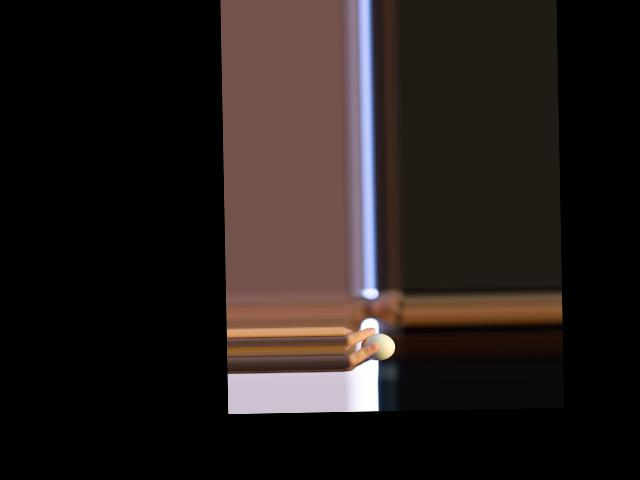egg: (360, 332, 395, 360)
